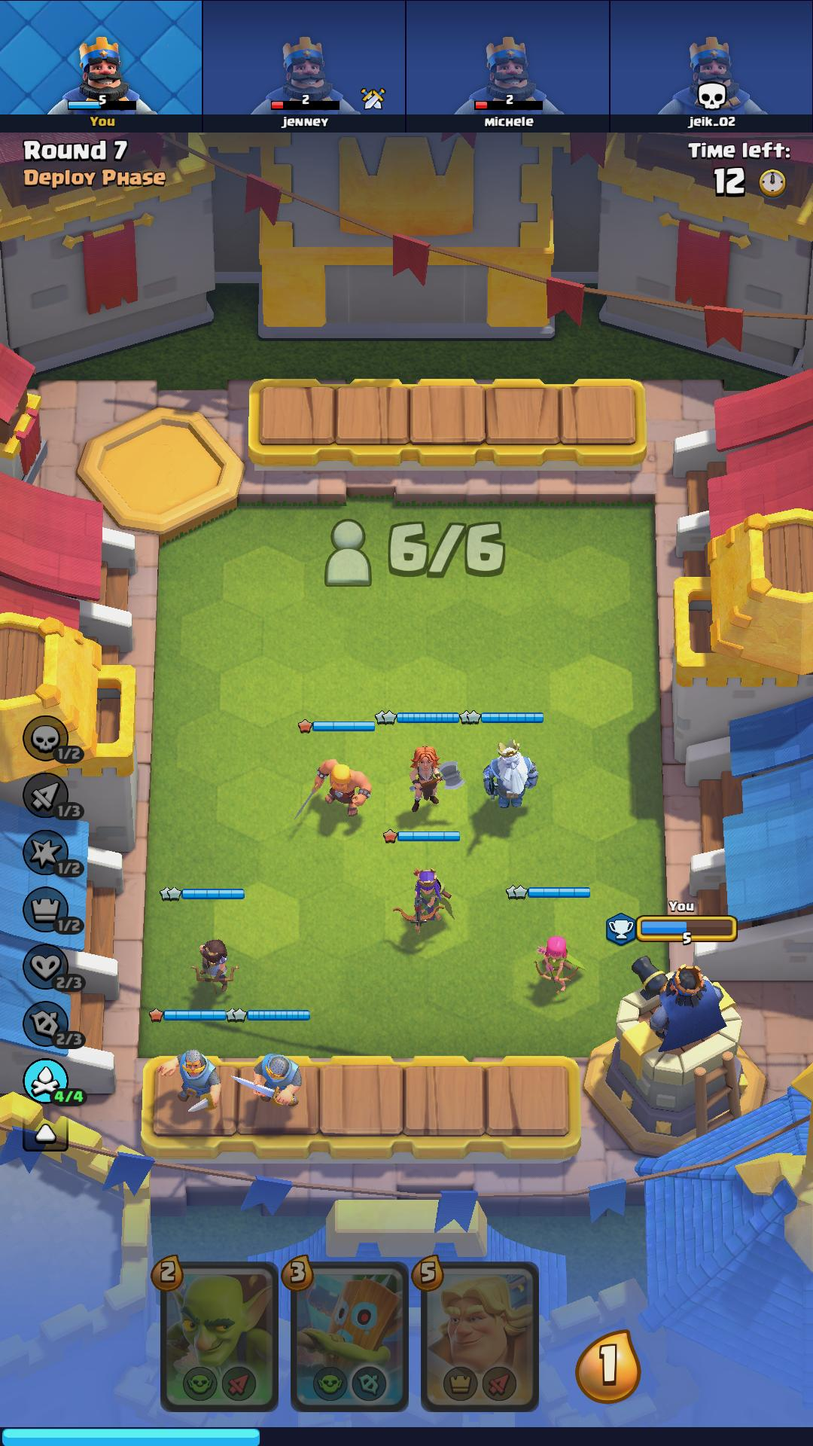archer: (518, 931, 581, 997)
barbarian: (292, 747, 375, 828)
ghost: (476, 734, 545, 812)
hand-dart: (292, 1264, 405, 1406)
hand-goblin: (165, 1263, 273, 1405)
hand-golden: (422, 1263, 535, 1406)
knight: (167, 1037, 230, 1113), (236, 1048, 306, 1108)
princess: (189, 926, 242, 999)
queen: (384, 862, 459, 936)
valkyrie: (394, 738, 462, 812)
